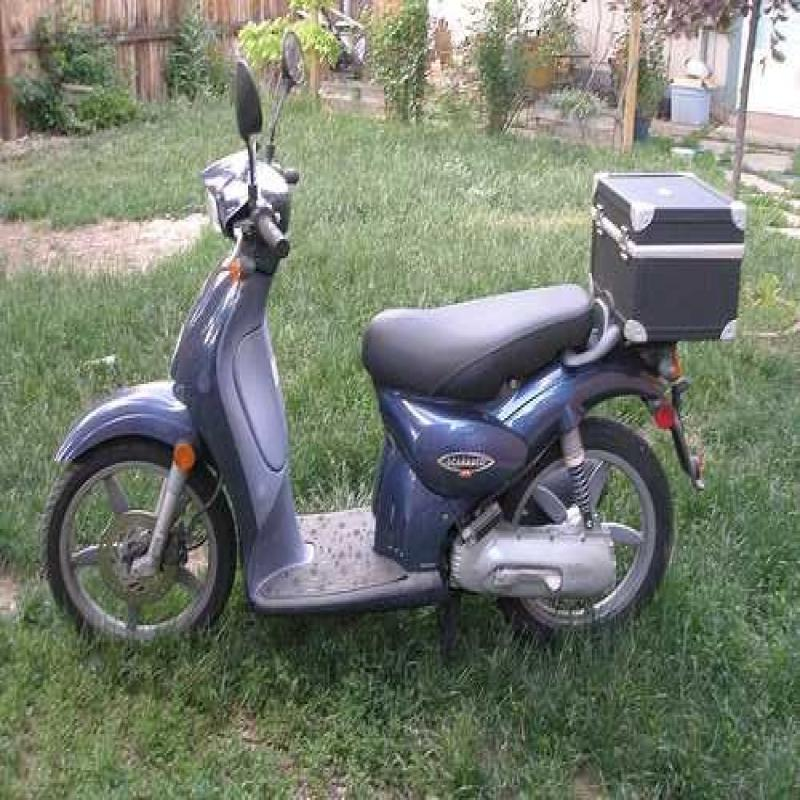bike: (63, 20, 746, 673)
